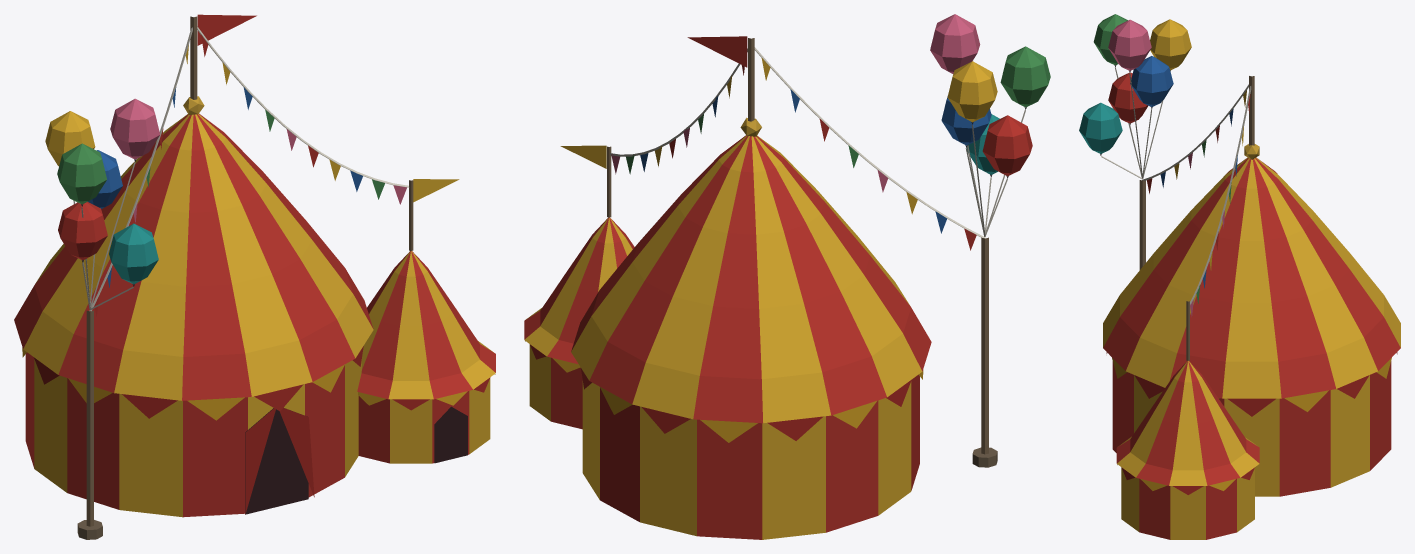
The model's file is special-festival.glb.
The picture shows the model from 3 angles, left to right: view 1: azimuth 30°, elevation 25°; view 2: azimuth 150°, elevation 25°; view 3: azimuth 270°, elevation 25°; orthographic projection. The views are drawn at different scales.
Visible parts, largest first — view 1: special-festival; view 2: special-festival; view 3: special-festival.
Boxes of the visible parts, x1=… form: special-festival: x1=14, y1=14, x2=495, y2=539; special-festival: x1=524, y1=14, x2=1050, y2=539; special-festival: x1=1079, y1=14, x2=1400, y2=539.
Bounding box in the file's own units: 2.38 × 2.1 × 1.68.
